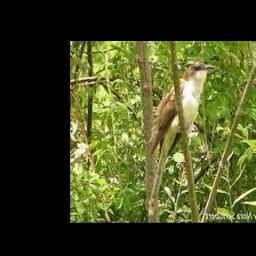Cuckoo: (148, 63, 215, 154)
